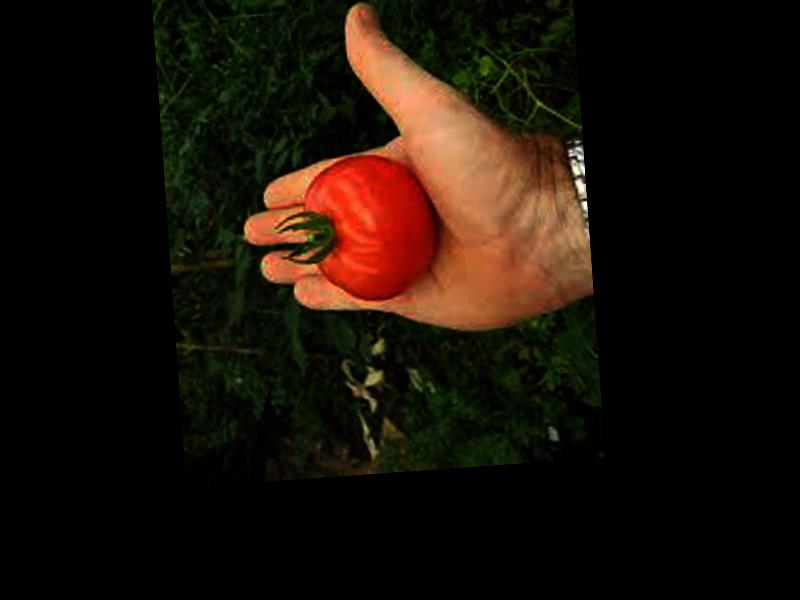Tomato: (302, 149, 440, 307)
